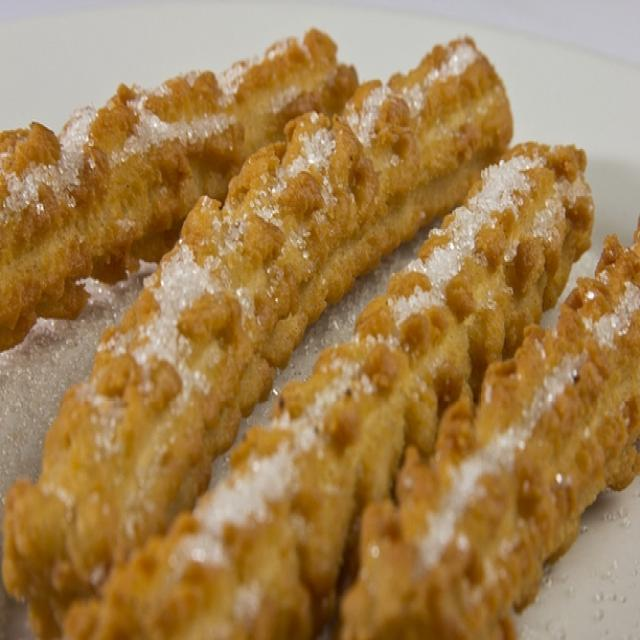炸货点心: (16, 17, 619, 615)
